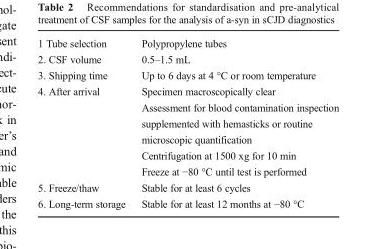table: (37, 36, 338, 209)
table column: (132, 36, 338, 209), (37, 36, 132, 209)
table row: (37, 162, 338, 179), (37, 50, 338, 66), (37, 66, 338, 82), (37, 82, 338, 98), (37, 98, 338, 114), (37, 114, 338, 130), (37, 130, 338, 146), (37, 146, 338, 162), (37, 179, 338, 194), (37, 194, 338, 209), (37, 36, 338, 50)
table spanning cell: (37, 82, 132, 179)
